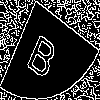B: (25, 25, 63, 81)
